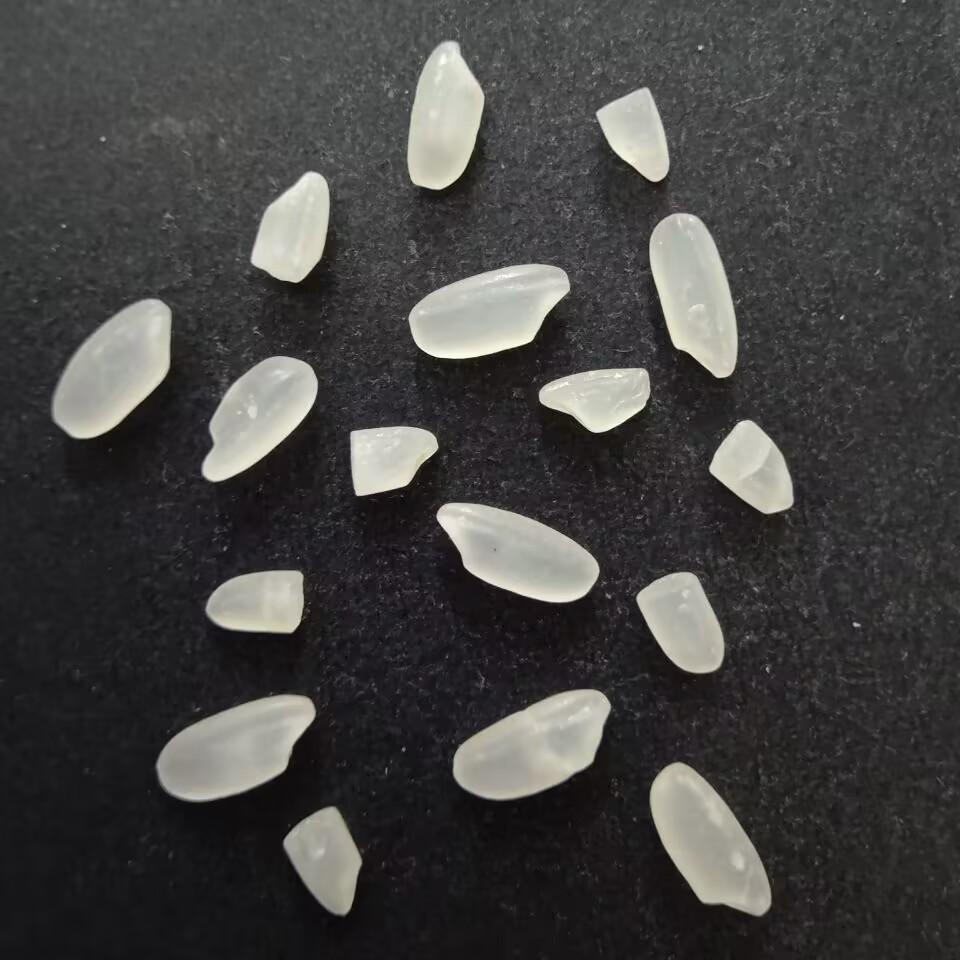broken: (630, 569, 730, 676), (248, 168, 333, 286), (281, 803, 365, 917), (705, 415, 796, 519), (592, 87, 673, 188), (536, 364, 651, 435), (199, 569, 307, 642), (344, 424, 440, 503)
rice: (647, 760, 775, 924), (448, 686, 613, 802), (154, 689, 316, 807), (47, 295, 173, 443), (432, 502, 603, 606), (407, 261, 572, 361), (195, 354, 320, 485), (647, 210, 742, 380), (404, 35, 487, 191)
